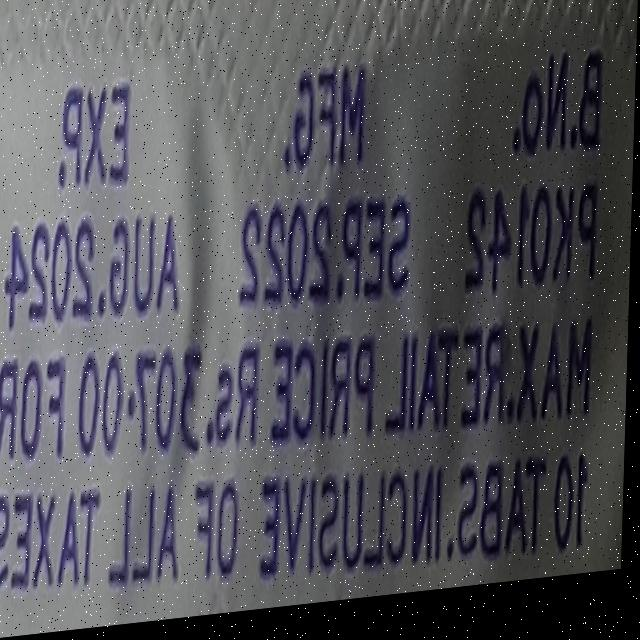sentence: (5, 178, 603, 345), (0, 457, 591, 601), (0, 331, 595, 465), (514, 64, 603, 169), (286, 73, 367, 176), (60, 83, 131, 190)
